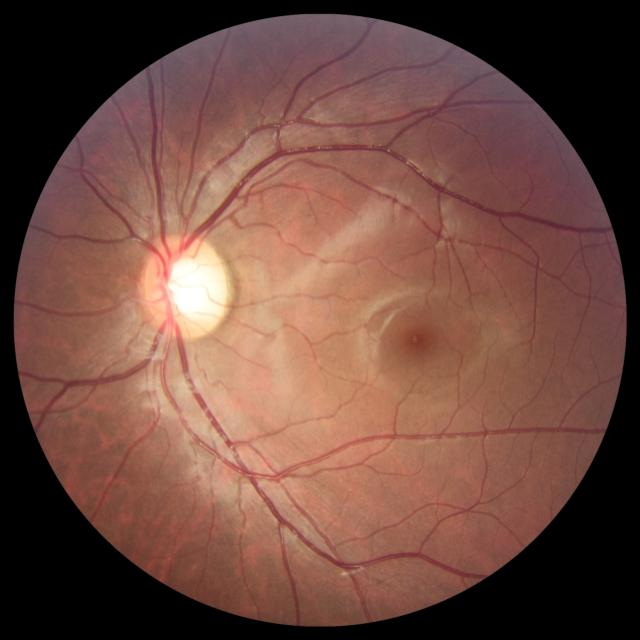OC: (163, 256, 216, 317)
OD: (138, 232, 232, 340)
